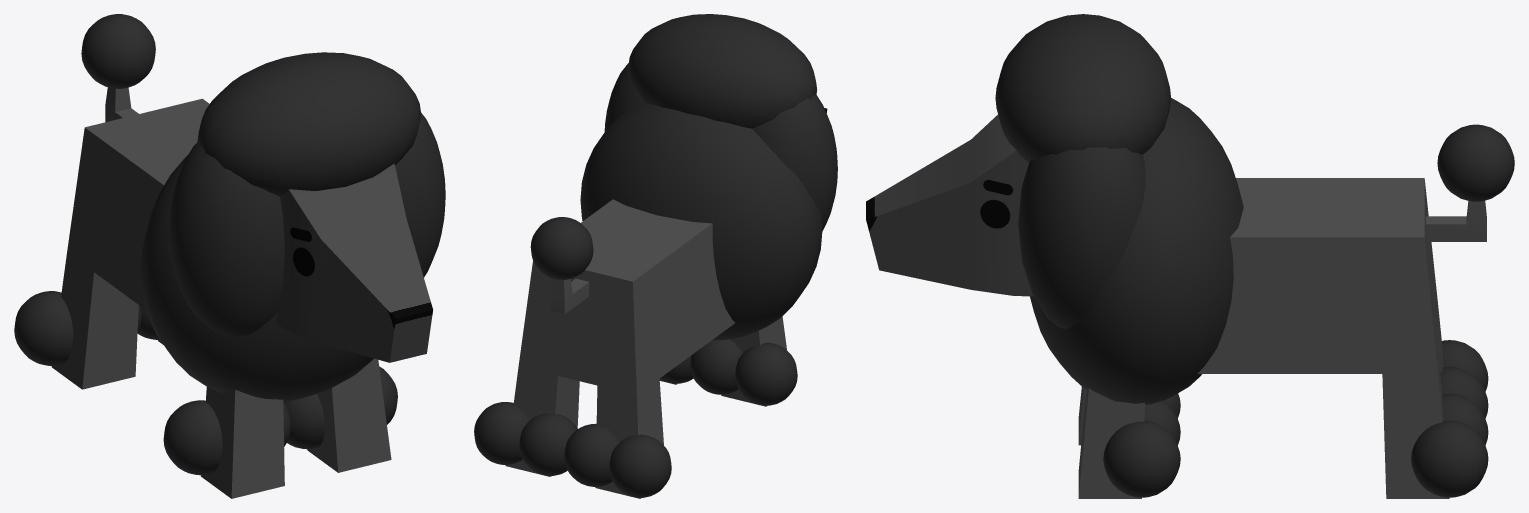
Rendered from Md-Poodle.fbx.
3 renders of one model, left to right at view 1: azimuth 30°, elevation 25°; view 2: azimuth 150°, elevation 25°; view 3: azimuth 270°, elevation 25°, orthographic. The views are drawn at different scales.
Visible parts, largest first — view 1: Body, HeadFluff, Head, RightEar, NeckFluff, LeftEar, TailFluff, BackRightFluff, FrontRightFluff, FrontLeftFluff, Tail, FrontLeftFluff2; view 2: Body, NeckFluff, HeadFluff, RightEar, TailFluff, BackRightFluff, FrontRightFluff, BackLeftFluff, BackLeftFluff2, BackRightFluff2, FrontRightFluff2, LeftEar (+2 smaller); view 3: Body, NeckFluff, HeadFluff, Head, LeftEar, TailFluff, BackLeftFluff2, FrontLeftFluff2, Tail, BackRightFluff2, BackLeftFluff, BackRightFluff (+1 smaller).
Boxes of the visible parts, x1,y1,x2,y2 form: Body: (51,98,391,498); HeadFluff: (197,52,420,196); Head: (276,163,432,362); RightEar: (169,143,284,336); NeckFluff: (140,155,373,401); LeftEar: (395,112,445,277); TailFluff: (81,14,155,88); BackRightFluff: (14,291,73,365); FrontRightFluff: (163,400,222,475); FrontLeftFluff: (283,394,324,449); Tail: (105,87,138,122); FrontLeftFluff2: (379,366,397,424); Body: (505,199,786,498); NeckFluff: (580,102,822,340); HeadFluff: (628,14,817,128); RightEar: (753,95,837,231); TailFluff: (530,217,593,279); BackRightFluff: (609,434,671,497); FrontRightFluff: (735,342,797,405); BackLeftFluff: (519,413,577,475); BackLeftFluff2: (474,402,529,464); BackRightFluff2: (564,423,619,486); FrontRightFluff2: (690,339,742,394); LeftEar: (604,63,644,131); Body: (1078,178,1449,498); NeckFluff: (1030,98,1243,404); HeadFluff: (995,14,1170,162); Head: (866,115,1033,296); LeftEar: (1018,147,1145,328); TailFluff: (1437,124,1514,201); BackLeftFluff2: (1411,420,1488,497); FrontLeftFluff2: (1103,420,1180,497); Tail: (1426,200,1486,241); BackRightFluff2: (1440,367,1488,418); BackLeftFluff: (1442,393,1488,445); BackRightFluff: (1442,340,1488,391).
Size of the model in its own units: 1.64 by 2.43 by 3.35.
3 materials, 1 textured.
